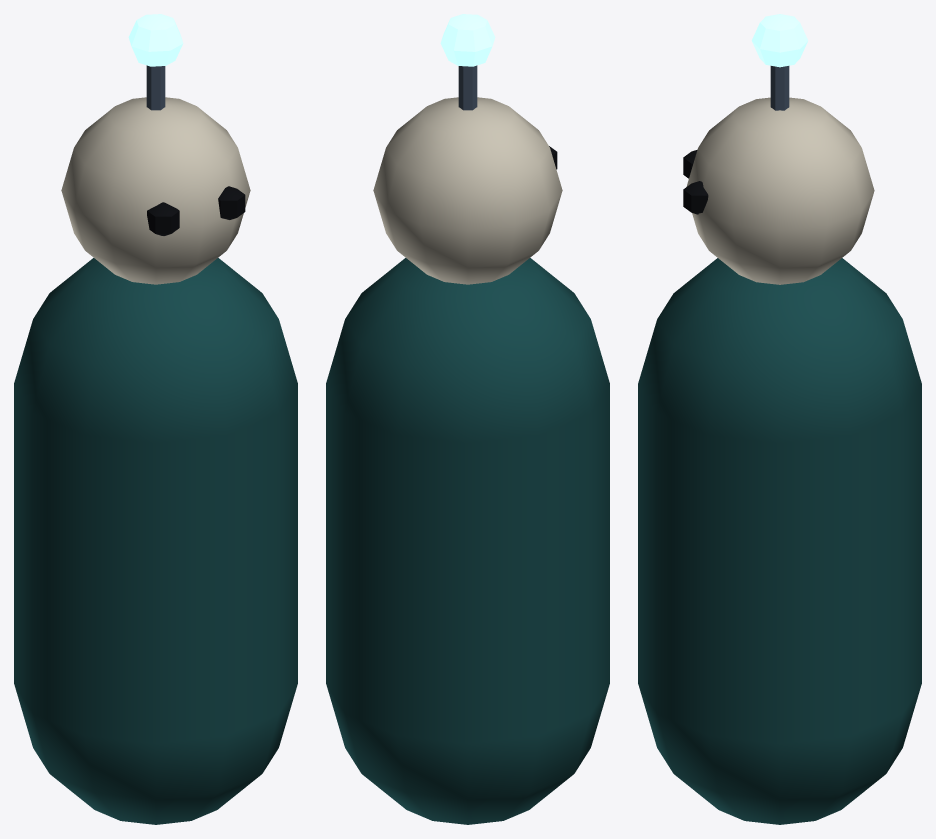
The model's file is buyer_b.glb.
3 views of the same model, side by side, from view 1: azimuth 30°, elevation 25°; view 2: azimuth 150°, elevation 25°; view 3: azimuth 270°, elevation 25° (orthographic).
Visible parts, largest first — view 1: buyer_b; view 2: buyer_b; view 3: buyer_b.
Part boxes in pixels (x1,y1,x2,y2): buyer_b: (14, 14, 297, 824); buyer_b: (326, 14, 609, 824); buyer_b: (638, 14, 921, 824).
Size of the model in its own units: 0.6 by 1.86 by 0.6.
